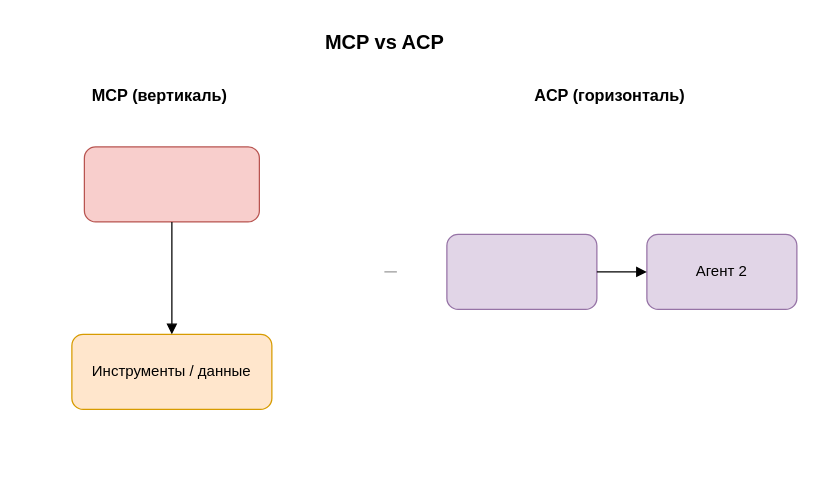
This 819x494 diagram has some shape labels left out. The box of each missing label's shape, as (x1, y1, x2, y2) in pixels:
Агент: (83, 146, 259, 222)
Агент 1: (446, 233, 597, 309)
